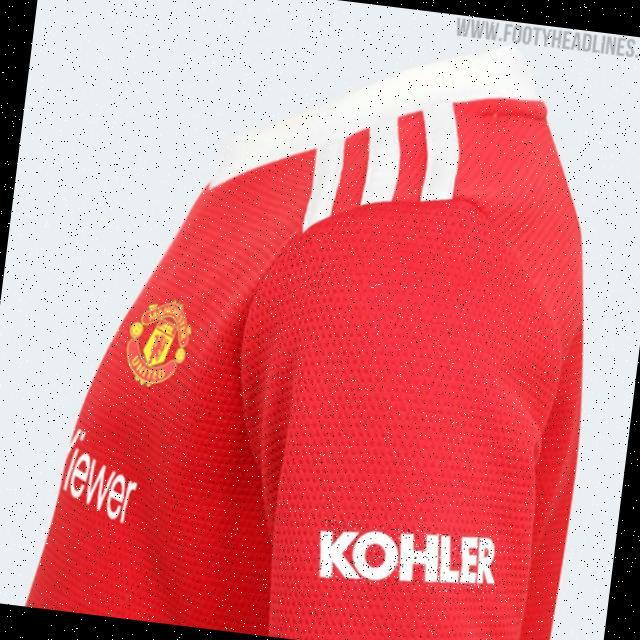Kohler: (315, 517, 499, 599)
